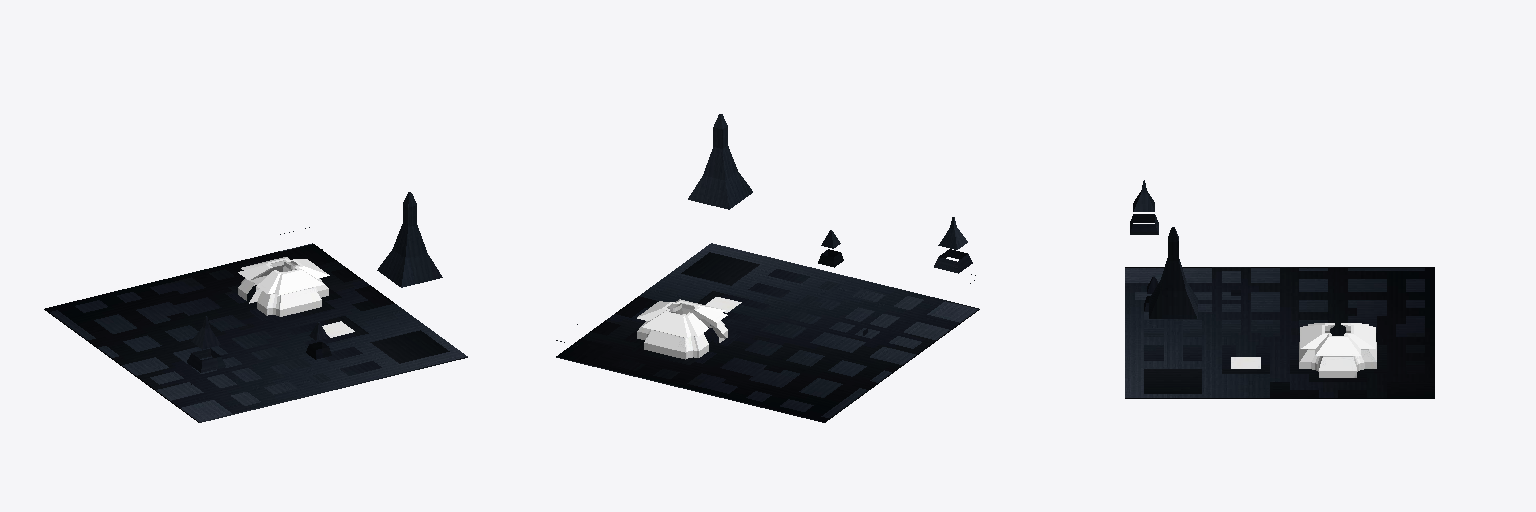
3 views of the same model, side by side, from view 1: azimuth 30°, elevation 25°; view 2: azimuth 150°, elevation 25°; view 3: azimuth 270°, elevation 25° (orthographic).
Visible parts, largest first — view 1: piso_Cube.001; view 2: piso_Cube.001; view 3: piso_Cube.001.
Boxes of the visible parts, <box> form: piso_Cube.001: <box>44,192,467,422</box>; piso_Cube.001: <box>556,114,979,422</box>; piso_Cube.001: <box>1125,180,1434,398</box>.
Size of the model in its own units: 8 by 4.42 by 8.
1 materials, 1 textured.